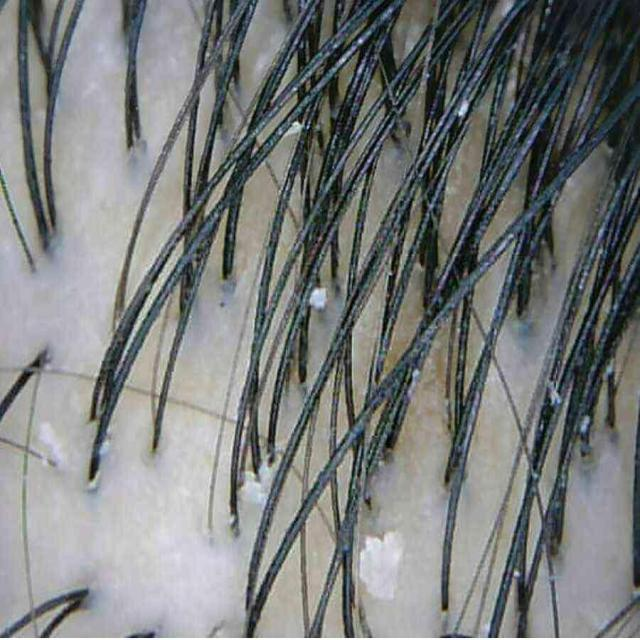d: (359, 531, 402, 600), (240, 472, 268, 505), (309, 287, 328, 310), (458, 99, 469, 117)
